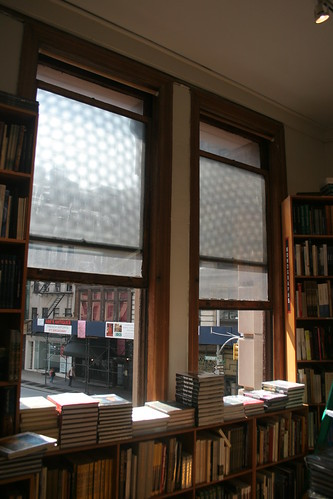window: (15, 75, 156, 415), (188, 115, 282, 402)
